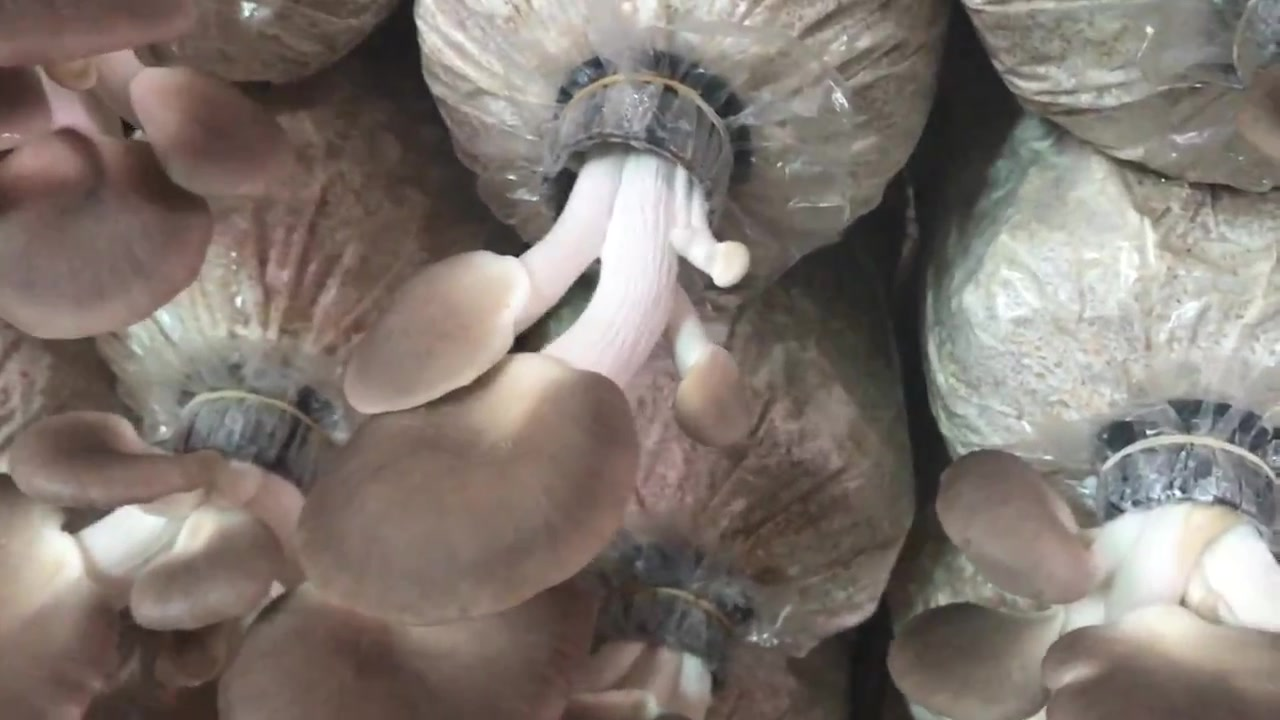nam: (299, 78, 763, 623), (1, 384, 598, 711), (888, 427, 1280, 716), (1, 7, 300, 342), (562, 557, 768, 720)
